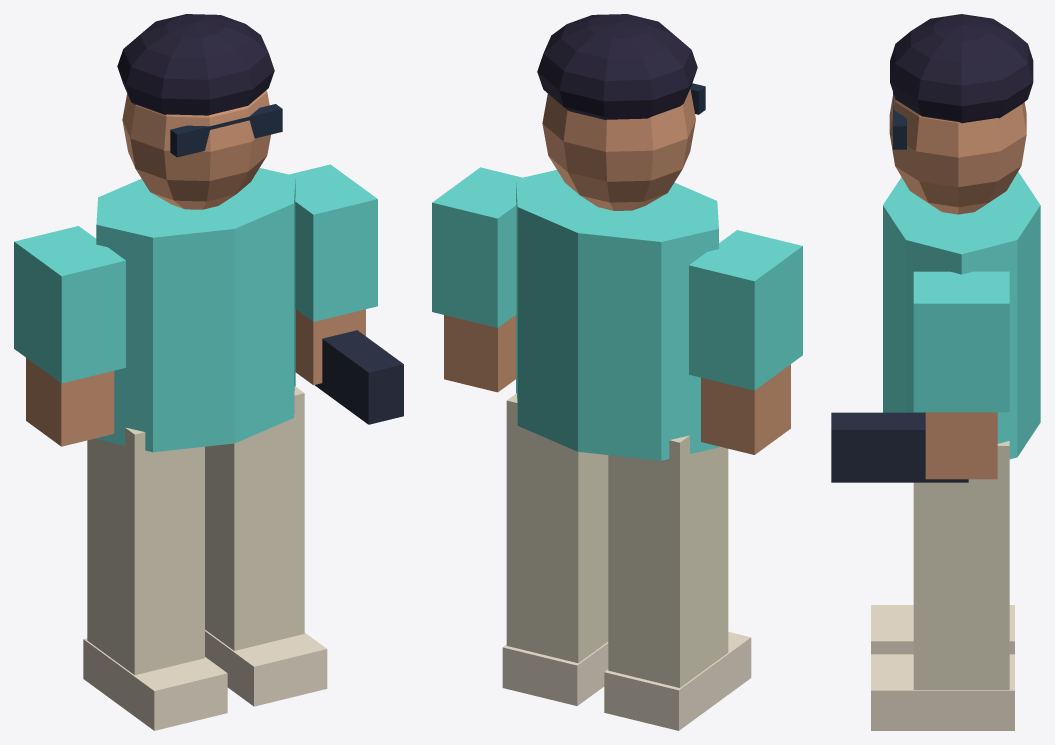
The model's file is character-player.obj.
The picture shows the model from 3 angles, left to right: view 1: azimuth 30°, elevation 25°; view 2: azimuth 150°, elevation 25°; view 3: azimuth 270°, elevation 25°; orthographic projection.
Visible parts, largest first — view 1: character-player; view 2: character-player; view 3: character-player.
Part boxes in pixels (box(x1,y1,x2,y2)): character-player: box(14, 14, 403, 730); character-player: box(432, 14, 802, 730); character-player: box(831, 14, 1040, 730).
Bounding box in the file's own units: 1.08 × 2.14 × 0.61.
